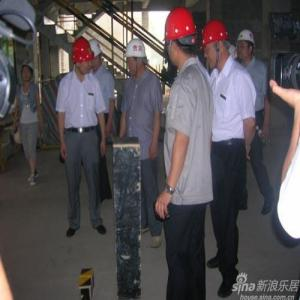red: (163, 8, 201, 68), (202, 19, 232, 70), (71, 37, 94, 75)
white: (125, 38, 148, 76), (235, 27, 258, 62), (89, 39, 104, 69), (20, 60, 35, 82)
